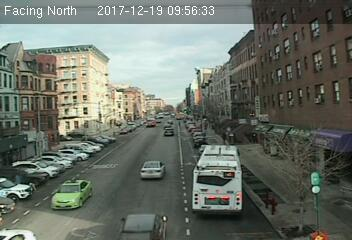bus: (191, 145, 243, 218)
car: (48, 177, 91, 209), (139, 158, 166, 179), (164, 128, 174, 137)
